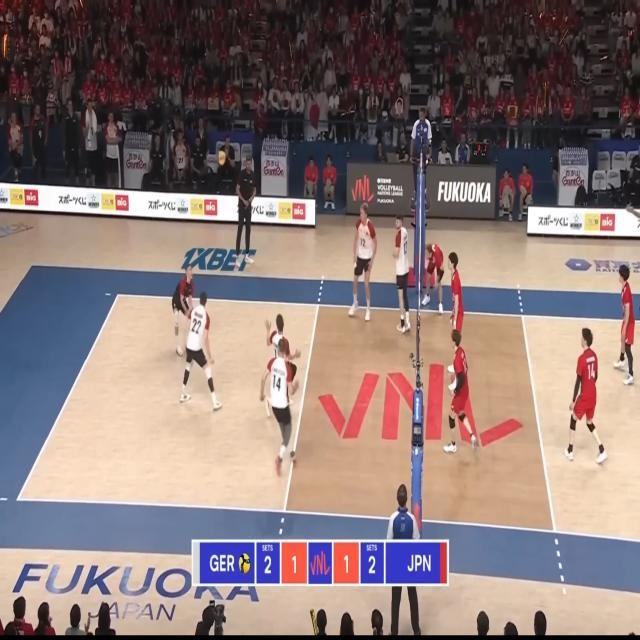ball: (218, 151, 226, 165)
